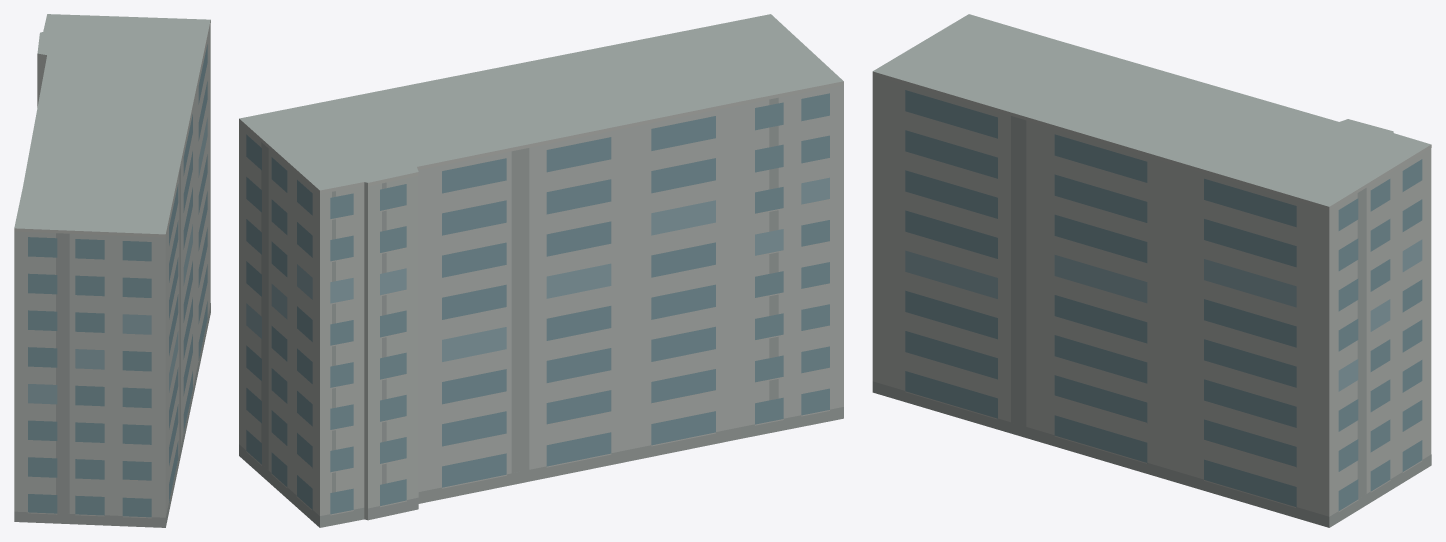
File: survey-upis-32535061.glb
The picture shows the model from 3 angles, left to right: view 1: azimuth 30°, elevation 25°; view 2: azimuth 150°, elevation 25°; view 3: azimuth 270°, elevation 25°; orthographic projection. The views are drawn at different scales.
Visible parts, largest first — view 1: survey-upis-32535061.tmp; view 2: survey-upis-32535061.tmp; view 3: survey-upis-32535061.tmp.
Part boxes in pixels (x1,y1,x2,y2): survey-upis-32535061.tmp: (14,14,210,527); survey-upis-32535061.tmp: (239,14,843,527); survey-upis-32535061.tmp: (872,14,1431,527).
Size of the model in its own units: 29.38 by 22.8 by 35.98.
